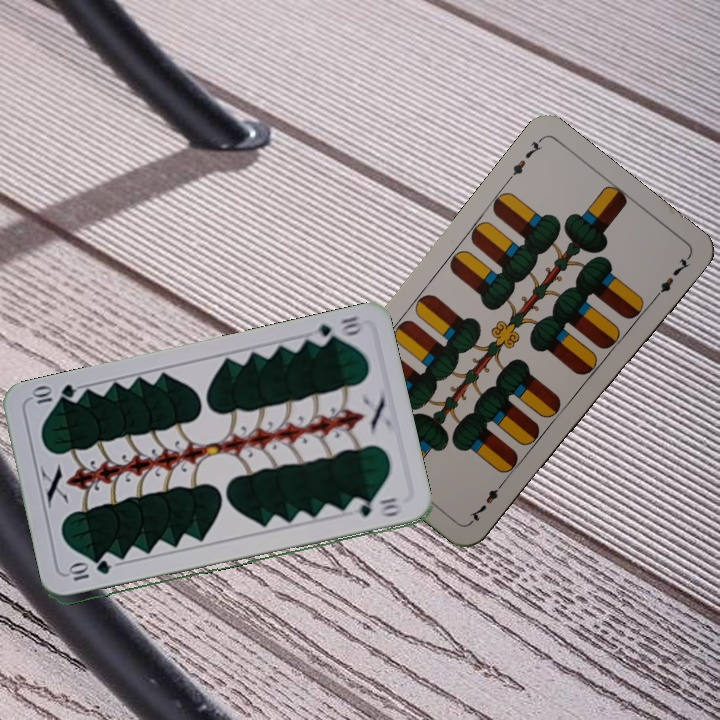E7: (466, 476, 509, 526), (503, 135, 545, 185)
G10: (307, 311, 364, 349), (65, 560, 114, 584)
